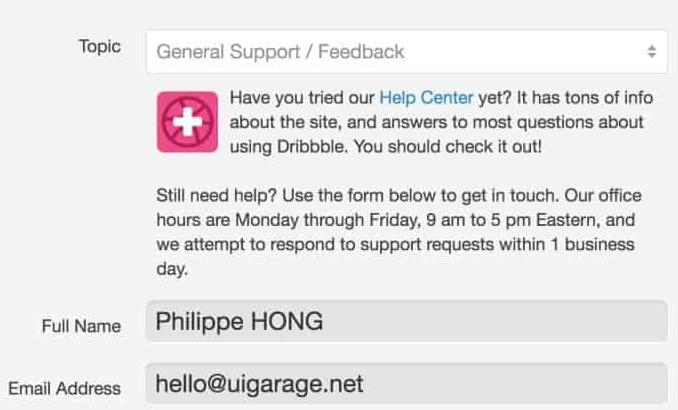field: (143, 297, 670, 345), (144, 27, 668, 75), (141, 361, 669, 405)
field_with_label: (79, 22, 673, 79), (8, 358, 672, 407), (40, 296, 673, 347)
